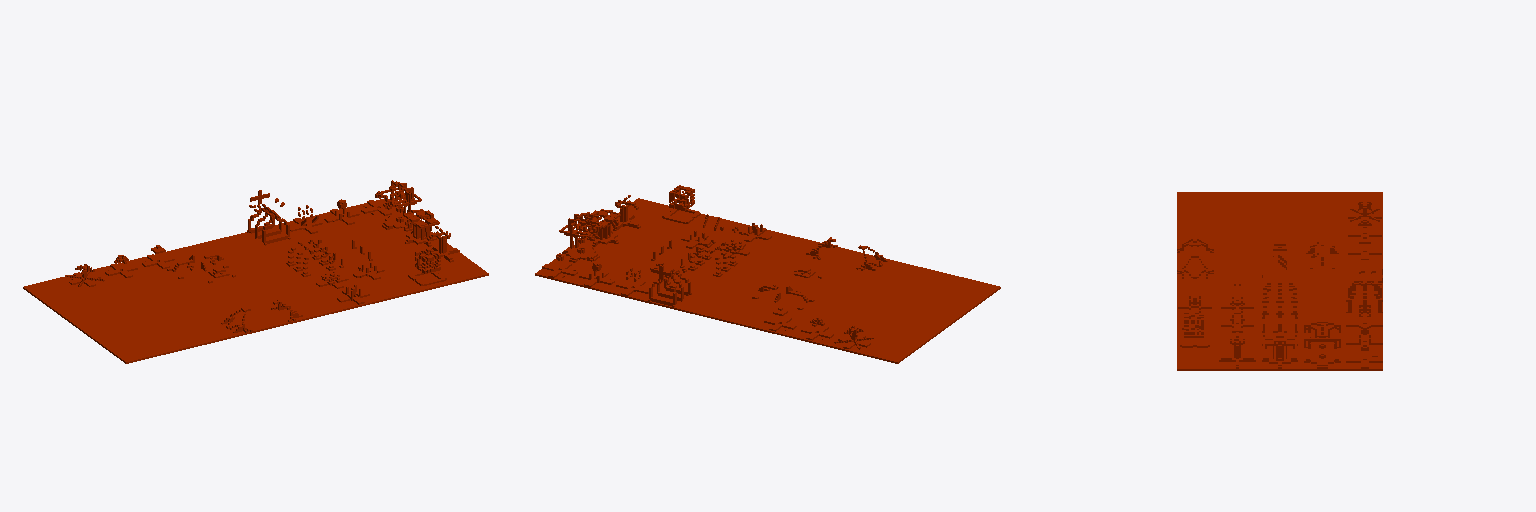
3 views of the same model, side by side, from view 1: azimuth 30°, elevation 25°; view 2: azimuth 150°, elevation 25°; view 3: azimuth 270°, elevation 25° (orthographic).
Visible parts, largest first — view 1: object 1; view 2: object 1; view 3: object 1.
Part boxes in pixels (x1,y1,x2,y2): object 1: (23,180,488,363); object 1: (535,185,1000,363); object 1: (1177,192,1382,370).
Size of the model in its own units: 22.7 by 3.1 by 11.2.
Materials: 1 (1 with a texture image).